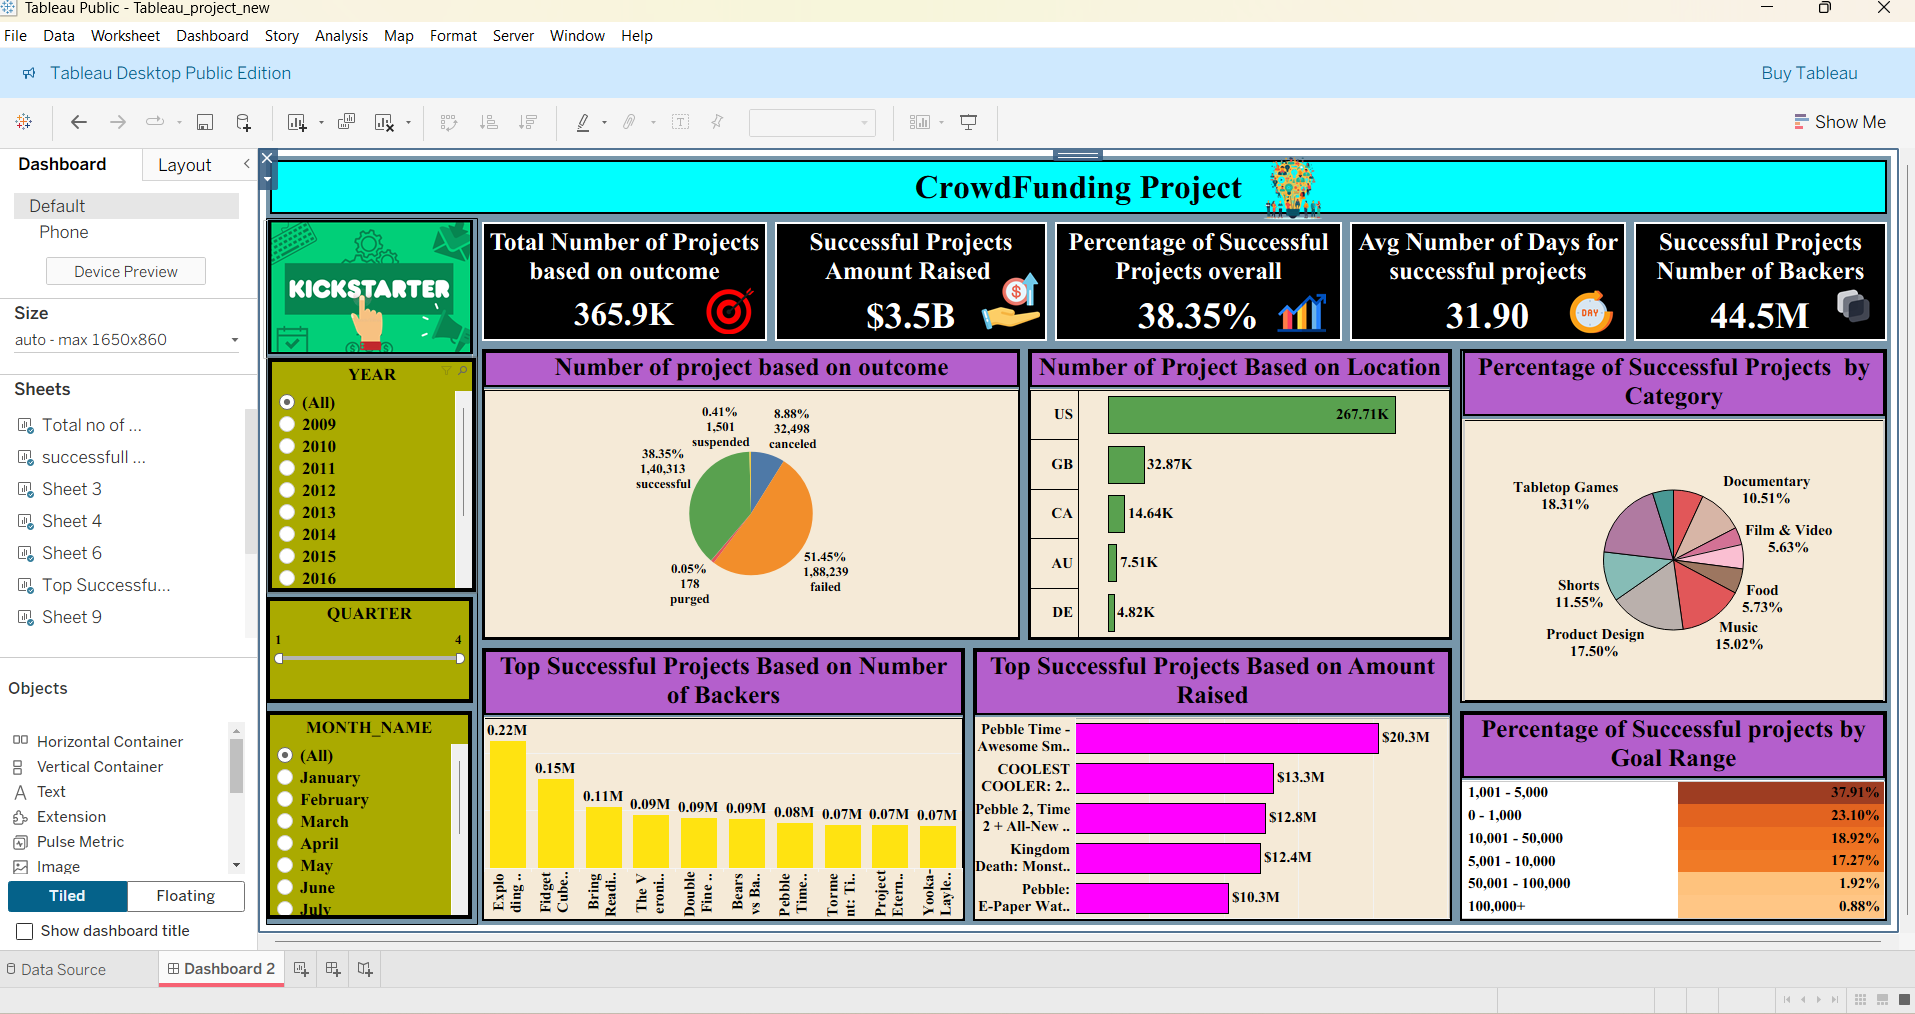

What the dashboard file says about the page in this screenshot:
{"tool":"tableau","page":{"name":"Dashboard 2","canvas":[1000,1000],"units":"permille","ordinal":0},"visuals":[{"type":"image","param":"C:/Users/chenn/Downloads/Tableau_chinni==.twb Files/Image/pngtree-crowdsourcing-","box":[575.3,8.8,109.7,84.3]},{"type":"text","box":[4.9,10.2,990.2,79.2]},{"type":"worksheet","title":"Total no of project based on outcome","mark":"Automatic","box":[133.9,89.4,178.6,161.8]},{"type":"worksheet","title":"successfull projects amount raised","mark":"Automatic","box":[312.5,89.4,170.6,161.8]},{"type":"worksheet","title":"Sheet 11","mark":"Automatic","box":[483.2,89.4,179.8,161.8]},{"type":"worksheet","title":"Sheet 10","mark":"Automatic","box":[662.9,89.4,173.1,161.8]},{"type":"worksheet","title":"NO of Bakers","mark":"Automatic","box":[836,89.4,159.1,161.8]},{"type":"legend","title":"Sheet 12","param":"[federated.0maktah0cjrlp8131bxsb0ojr53n].[usr:Calculation_614459882857062404:qk]","box":[5.5,90.6,127.8,897.9]},{"type":"image","param":"C:/Users/chenn/Downloads/Tableau_chinni==.twb Files/Image/preview-lightbox-Frida","box":[6.1,91.1,124.9,171.2]},{"type":"image","param":"C:/Users/chenn/Downloads/Tableau_chinni==.twb Files/Image/9956875-removebg-previ","box":[440.6,157.2,36,81.8]},{"type":"image","param":"C:/Users/chenn/Downloads/Tableau_chinni==.twb Files/Image/hand-cursor-icon-click","box":[43,168.7,45.5,102.2]},{"type":"image","param":"C:/Users/chenn/Downloads/Tableau_chinni==.twb Files/Image/Bullseye-Transparent-P","box":[273,177.4,33.5,60.4]},{"type":"image","param":"C:/Users/chenn/Downloads/Tableau_chinni==.twb Files/Image/layers-icon5364.logowi","box":[956.7,177.4,30.5,57.9]},{"type":"image","param":"C:/Users/chenn/Downloads/Tableau_chinni==.twb Files/Image/2716350-removebg-previ","box":[621,178.6,37.2,62.9]},{"type":"image","param":"C:/Users/chenn/Downloads/Tableau_chinni==.twb Files/Image/5776286-removebg-previ","box":[798.3,178.6,32.3,59.1]},{"type":"worksheet","title":"Sheet 3","mark":"Pie","box":[133.9,251.1,333.2,380.3]},{"type":"worksheet","title":"Sheet 4","mark":"Automatic","rows":["country (Sheet11)"],"cols":["Calculation_614459882857062404"],"box":[467.1,251.1,263,380.3]},{"type":"worksheet","title":"Sheet 6","mark":"Pie","box":[730.1,251.1,265.1,460.7]},{"type":"filter","title":"Sheet 3","param":"[federated.0maktah0cjrlp8131bxsb0ojr53n].[none:Calculation_614459882854998016:nk","box":[6.1,267.9,126.8,298.1]},{"type":"filter","title":"Sheet 3","param":"[federated.0maktah0cjrlp8131bxsb0ojr53n].[none:Calculation_614459882856005635:qk","box":[4.9,572.3,126.1,134.6]},{"type":"worksheet","title":"Top Successful Projects Based on Number of Backers","mark":"Automatic","rows":["backers_count"],"cols":["name"],"box":[133.9,631.4,299.4,358.4]},{"type":"worksheet","title":"Sheet 9","mark":"Automatic","rows":["name"],"cols":["usd_pledged"],"box":[433.3,631.4,296.8,358.4]},{"type":"worksheet","title":"Sheet 12","mark":"Square","rows":["Calculation_463026347076628480"],"box":[730.1,711.8,265.1,278]},{"type":"filter","title":"Sheet 3","param":"[federated.0maktah0cjrlp8131bxsb0ojr53n].[none:Calculation_614459882855346178:nk","box":[4.9,717,125.5,265.4]}]}

Visuals, with their boxes on the dashboard's canvas, which has no fixed pixel size, in thousandths of its width and height (x1, y1, x2, y2). These are canvas units, not pixel positions in the 1915x1014 screenshot, which may show the page scaled, cropped or inside an application window:
image: bbox=(575, 9, 685, 93)
text: bbox=(5, 10, 995, 89)
"Total no of project based on outcome" worksheet: bbox=(134, 89, 312, 251)
"successfull projects amount raised" worksheet: bbox=(312, 89, 483, 251)
"Sheet 11" worksheet: bbox=(483, 89, 663, 251)
"Sheet 10" worksheet: bbox=(663, 89, 836, 251)
"NO of Bakers" worksheet: bbox=(836, 89, 995, 251)
"Sheet 12" legend: bbox=(6, 91, 133, 988)
image: bbox=(6, 91, 131, 262)
image: bbox=(441, 157, 477, 239)
image: bbox=(43, 169, 88, 271)
image: bbox=(273, 177, 306, 238)
image: bbox=(957, 177, 987, 235)
image: bbox=(621, 179, 658, 242)
image: bbox=(798, 179, 831, 238)
"Sheet 3" worksheet (Pie marks): bbox=(134, 251, 467, 631)
"Sheet 4" worksheet: bbox=(467, 251, 730, 631)
"Sheet 6" worksheet (Pie marks): bbox=(730, 251, 995, 712)
"Sheet 3" filter: bbox=(6, 268, 133, 566)
"Sheet 3" filter: bbox=(5, 572, 131, 707)
"Top Successful Projects Based on Number of Backers" worksheet: bbox=(134, 631, 433, 990)
"Sheet 9" worksheet: bbox=(433, 631, 730, 990)
"Sheet 12" worksheet (Square marks): bbox=(730, 712, 995, 990)
"Sheet 3" filter: bbox=(5, 717, 130, 982)
